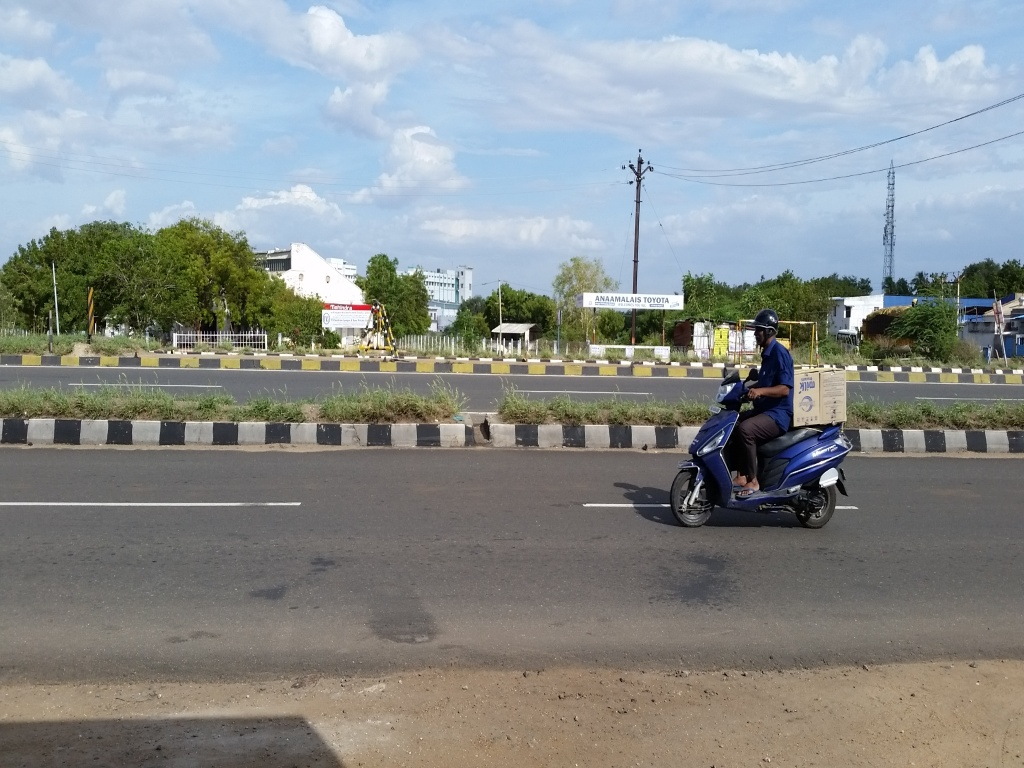biker: (650, 278, 872, 537)
helmet: (746, 302, 790, 361)
